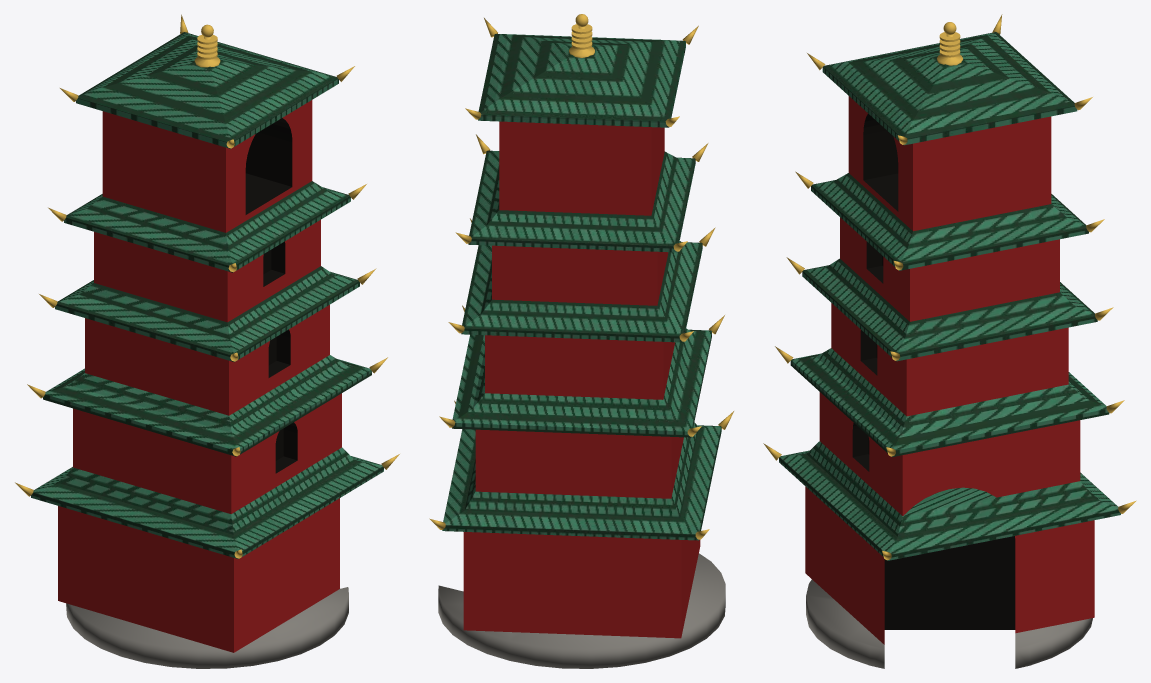
The model's file is pagoda.glb.
3 renders of one model, left to right at view 1: azimuth 30°, elevation 25°; view 2: azimuth 150°, elevation 25°; view 3: azimuth 270°, elevation 25°, orthographic.
Parts seen in each view (by area): view 1: tiers, roofs, platform, finial.002; view 2: tiers, roofs, platform, finial.002; view 3: tiers, roofs, platform, finial.002.
Boxes of the visible parts, left/top/right/bottom form: tiers: left=58, top=100, right=341, bottom=652; roofs: left=31, top=32, right=383, bottom=558; platform: left=66, top=587, right=348, bottom=668; finial.002: left=15, top=14, right=399, bottom=558; tiers: left=463, top=121, right=700, bottom=638; roofs: left=442, top=34, right=721, bottom=540; platform: left=438, top=553, right=725, bottom=668; finial.002: left=429, top=14, right=733, bottom=539; tiers: left=805, top=96, right=1094, bottom=644; roofs: left=779, top=32, right=1120, bottom=560; platform: left=806, top=579, right=1092, bottom=668; finial.002: left=763, top=14, right=1136, bottom=560.
Size of the model in its own units: 8.58 by 15 by 8.58.
Materials: 7 (1 with a texture image).
